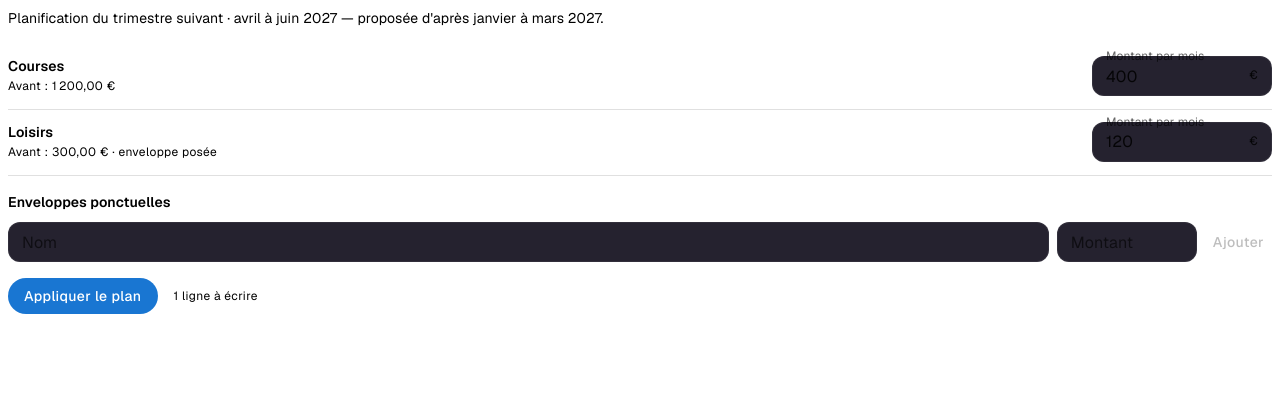
Test: PeriodPlanStep › an edited amount and a one-off envelope are part of the plan
Replace the text in the number field named "Montant par mois Courses" with "425.5": (1170, 76) [1092,56,1249,96]
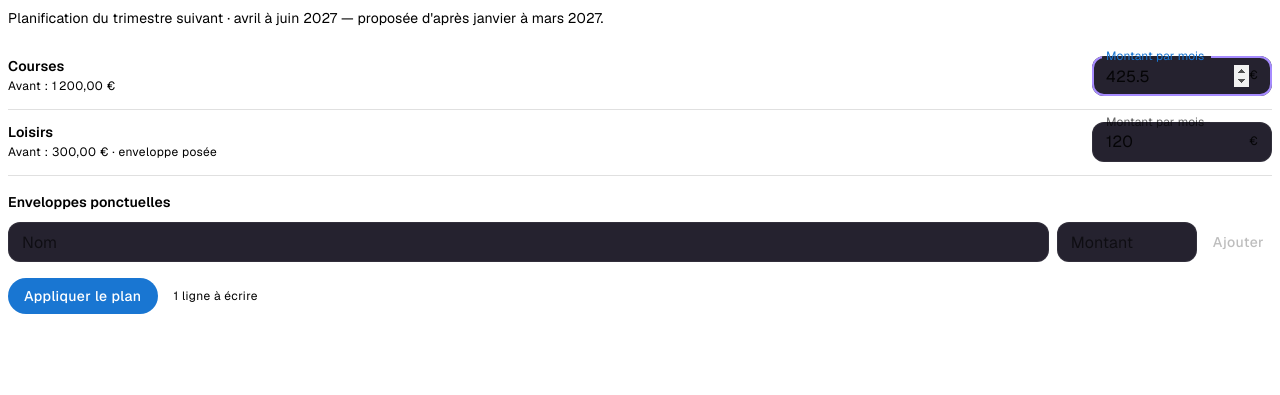
Replace the text in the number field named "Montant par mois Loisirs" with "90": (1170, 142) [1092,122,1249,162]
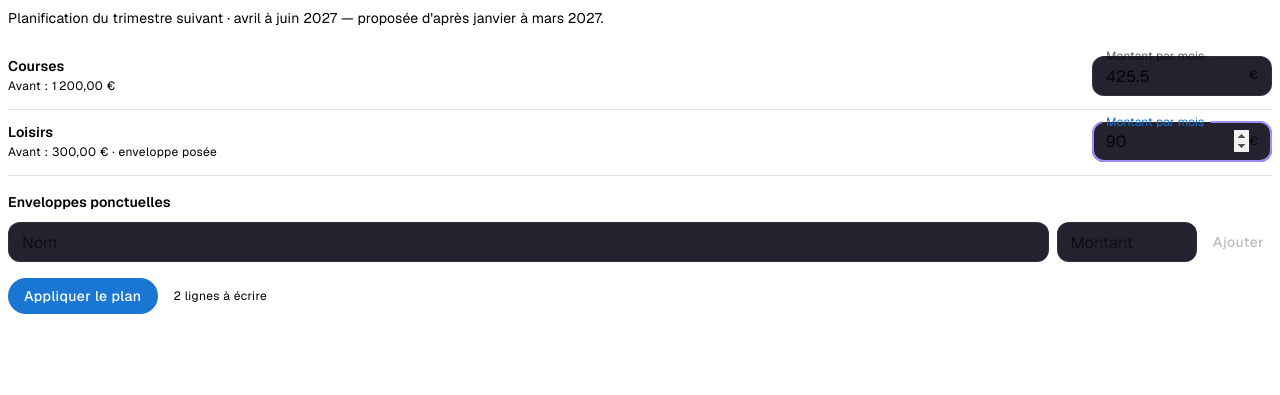
In the field labelled "Nom": (528, 242) [8,222,1049,262], type "Escapade"
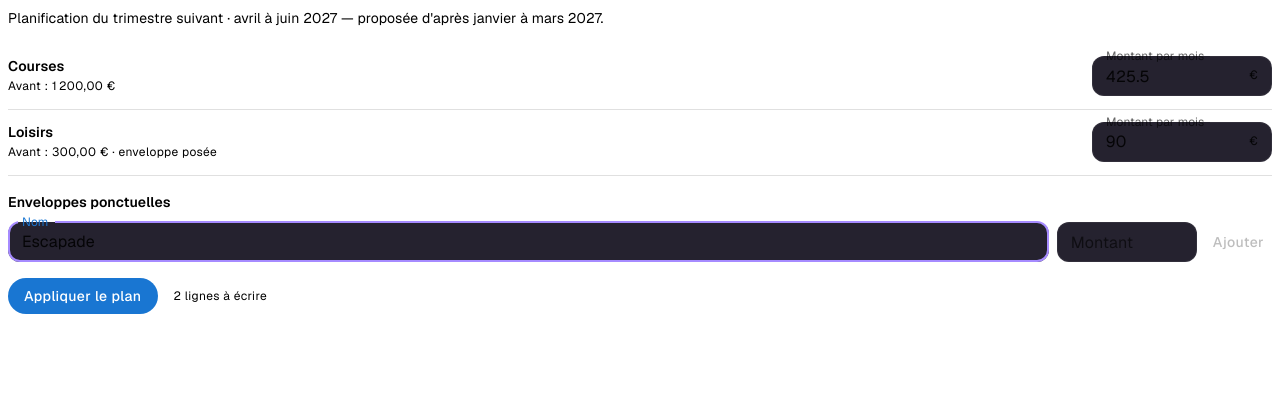
In the number field labelled "Montant": (1127, 242) [1057,222,1197,262], type "450"
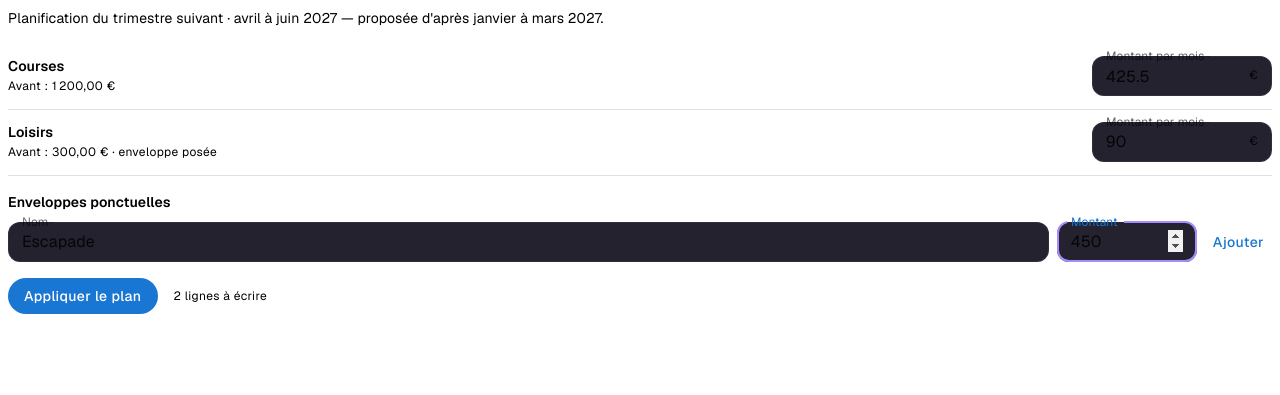
Click the button "Ajouter": (1238, 242) [1205,222,1272,262]
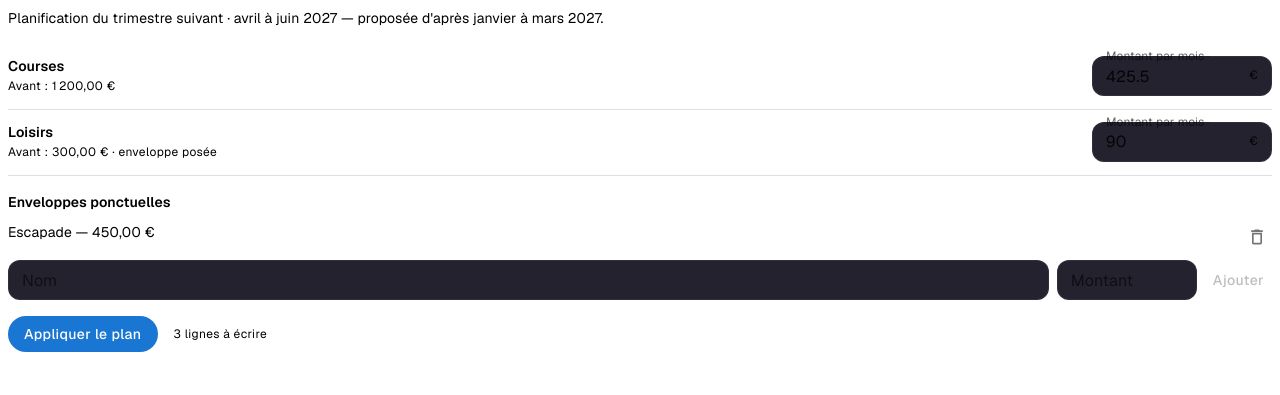
Now the element with test id "plan-one-off" shows "Escapade", box [8,223,72,241]
Click the button "Appliquer le plan": (83, 334) [8,316,158,352]
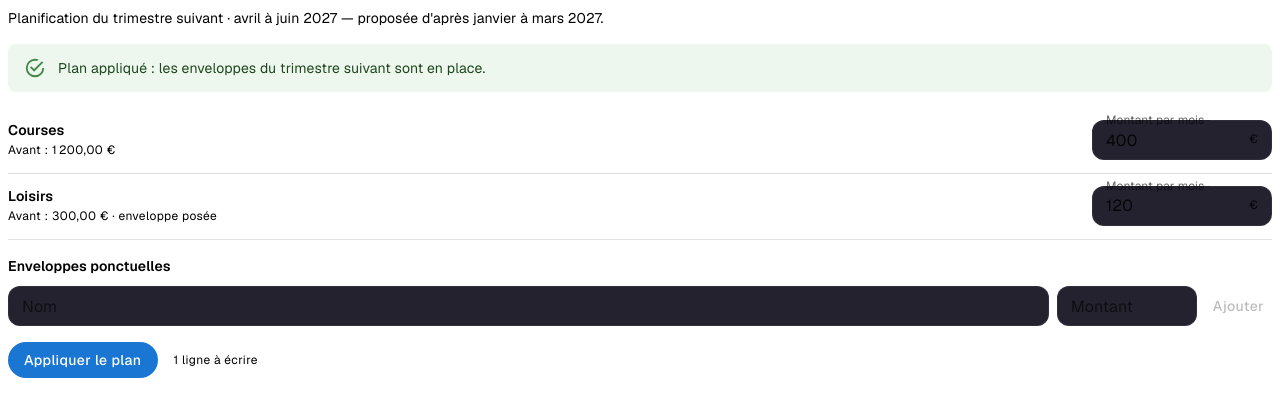
Now the message "Plan appliqué : les enveloppes du trimestre suivant sont en place." is shown, box [8,44,1272,92]
